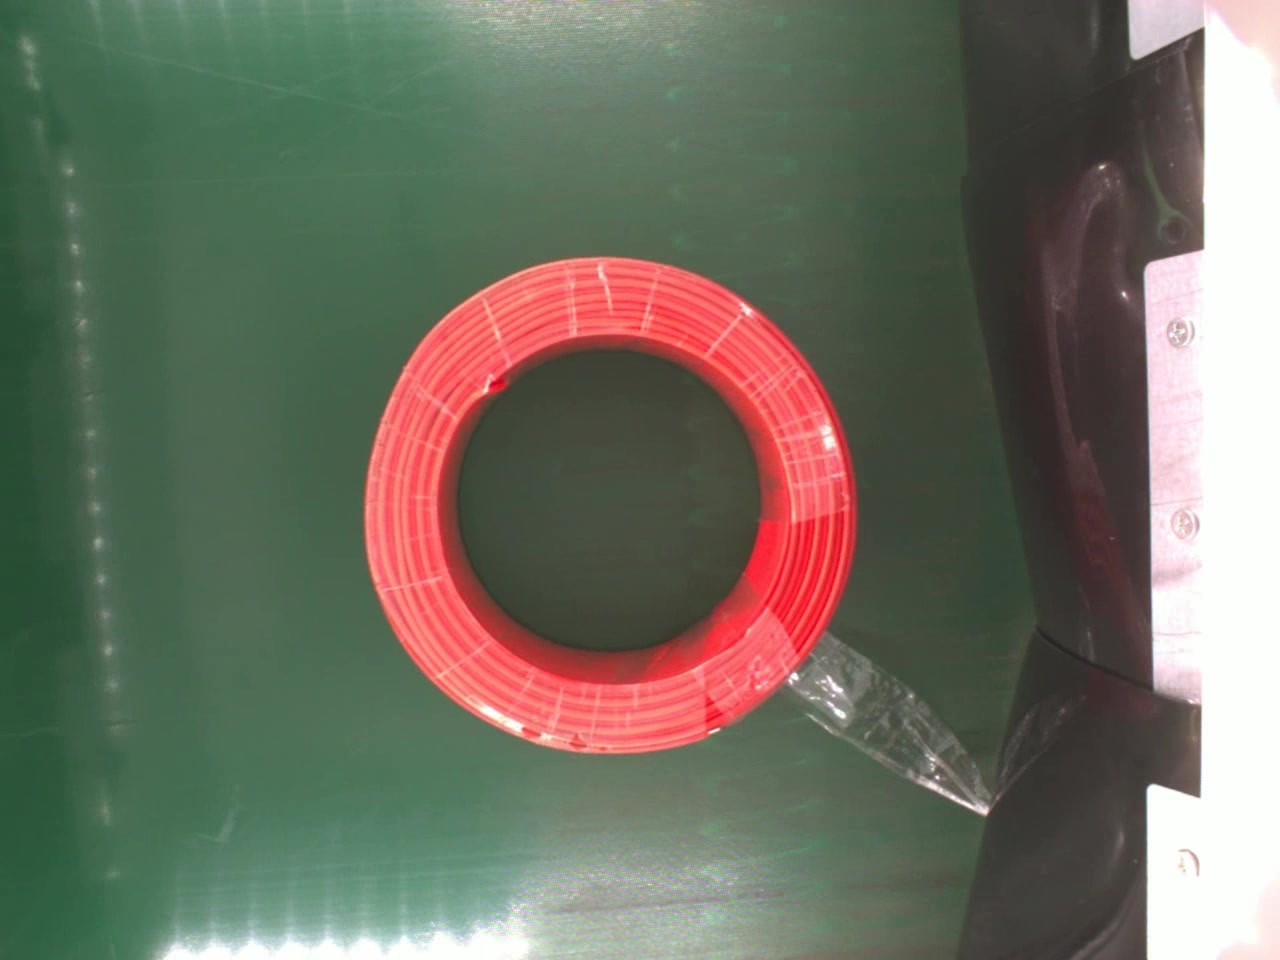red: (362, 256, 857, 759)
